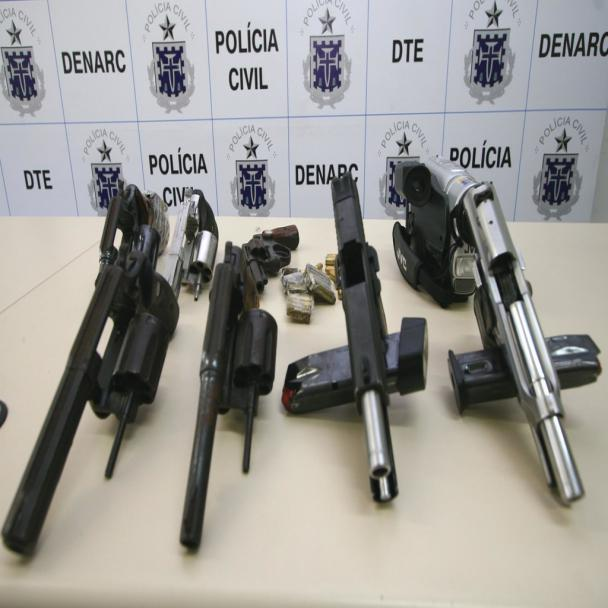Gun: (2, 158, 210, 580), (392, 158, 604, 519), (273, 156, 406, 520), (182, 168, 296, 590)
